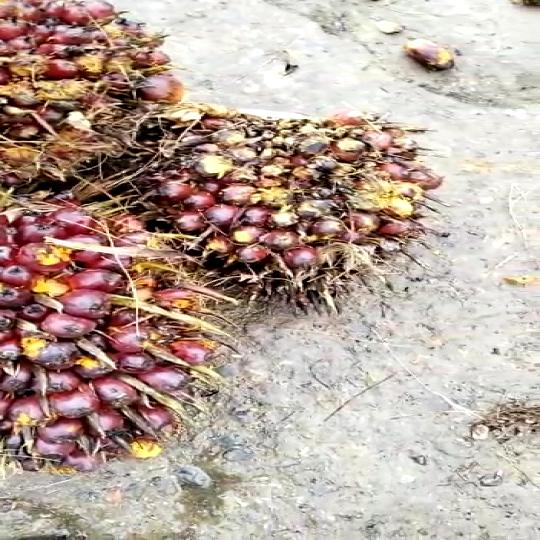masak: (121, 97, 462, 316), (0, 188, 233, 464)
